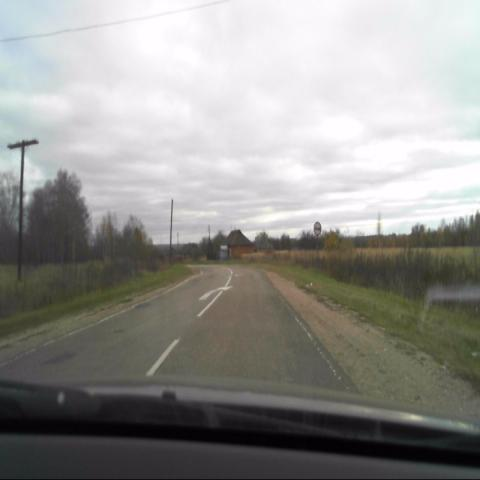3_20: (314, 222, 322, 236)
